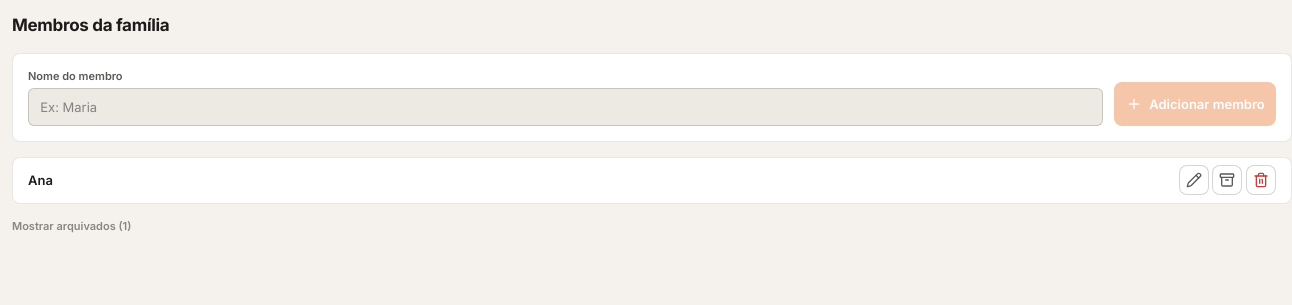
it: FinanceMemberManager › hides archived members until the toggle is used
Expected: the text "Vô" is not shown
Click the button "Mostrar arquivados (1)" at {"x": 72, "y": 226}, box [12, 219, 131, 234]
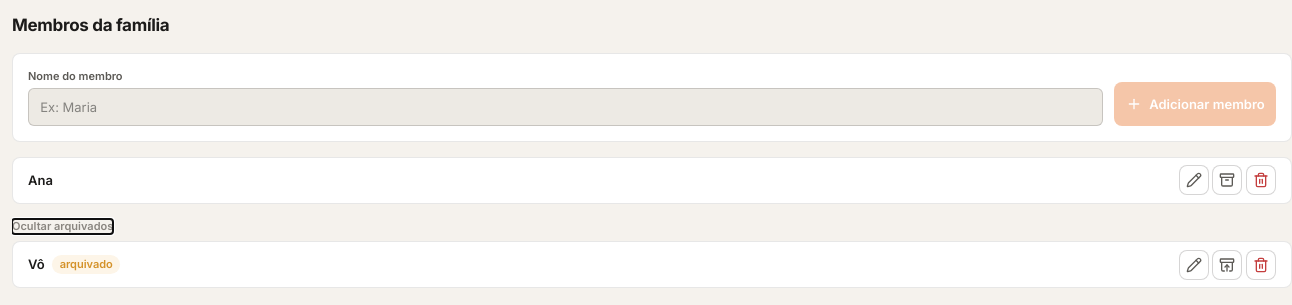
Now the text "Vô" is shown, box [28, 255, 45, 274]
Now the text "arquivado" is shown, box [52, 255, 120, 274]
Click the button "Ocultar arquivados" at {"x": 63, "y": 226}, box [12, 219, 113, 234]
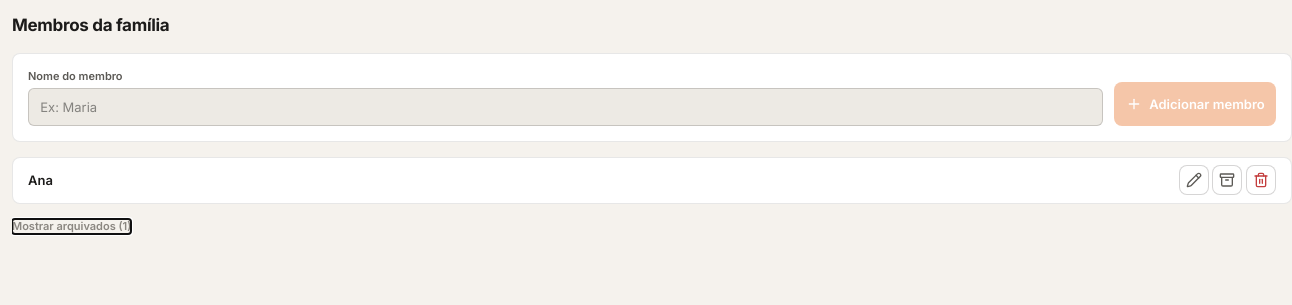
Now the text "Vô" is gone
